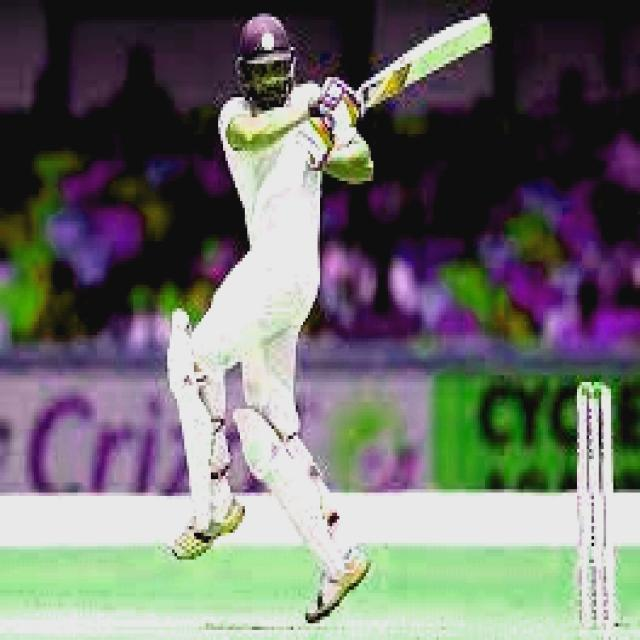toe: (461, 8, 492, 57)
